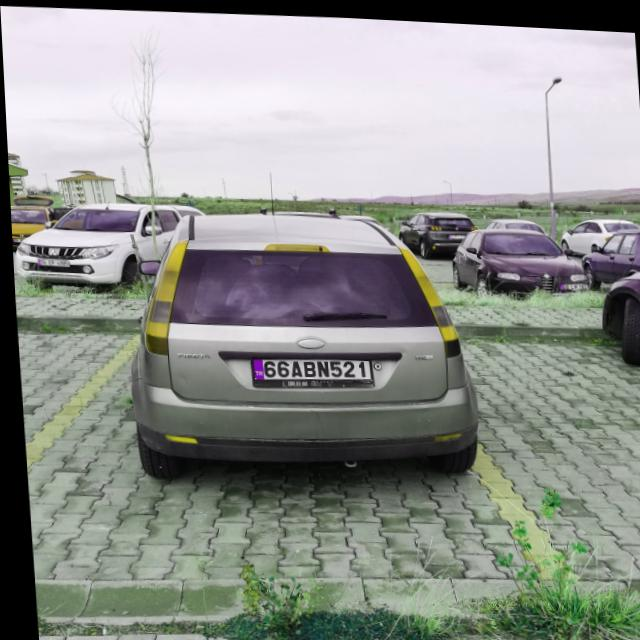license_plate: (247, 353, 369, 385)
